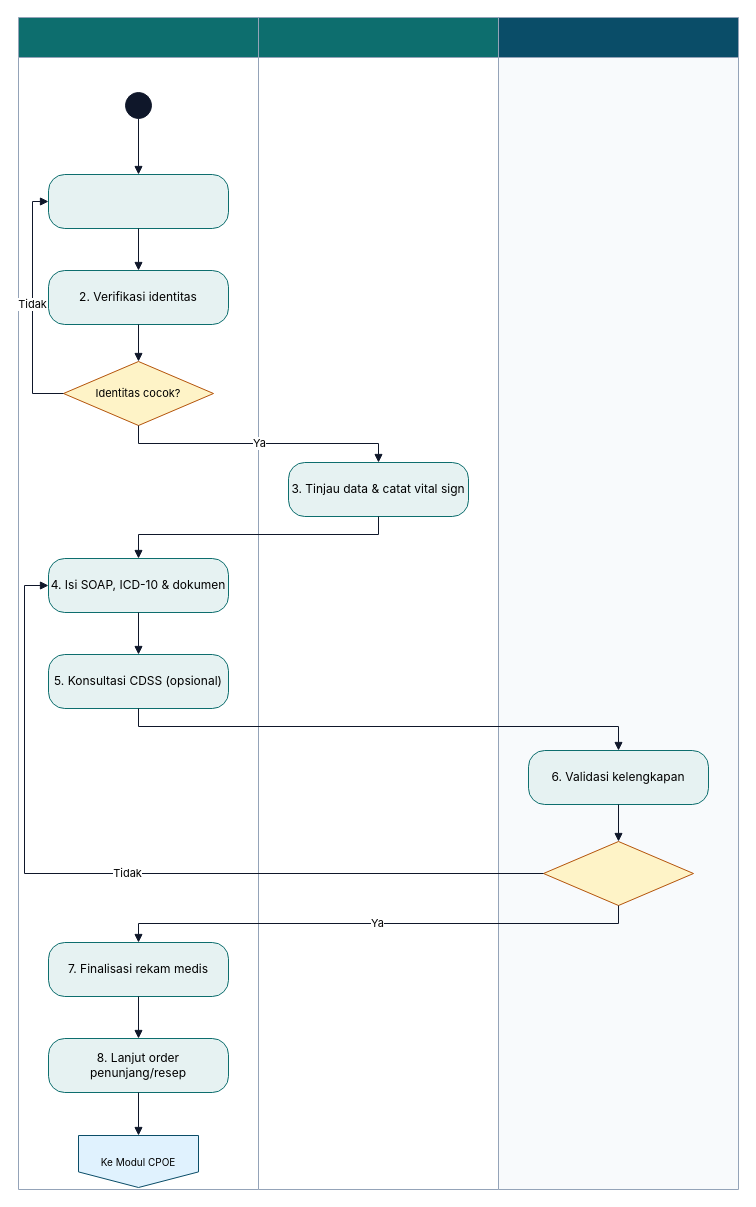
Image size: 756x1207. Some labels were removed from this diagram. The box of each missing label's shape, as (x1, y1, x2, y2) in pixels:
1. Pilih pasien: (48, 174, 228, 228)
Diagnosis ICD-10 ada & divalidasi?: (542, 840, 694, 906)
Dokter: (18, 16, 258, 1190)
Perawat: (258, 16, 498, 1190)
Sistem SIMRS: (498, 16, 738, 1190)
